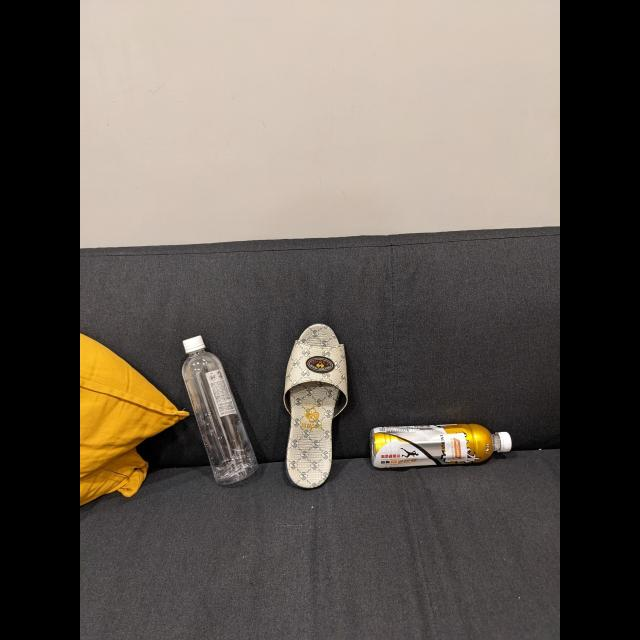trash: (175, 334, 261, 488), (368, 421, 516, 471)
